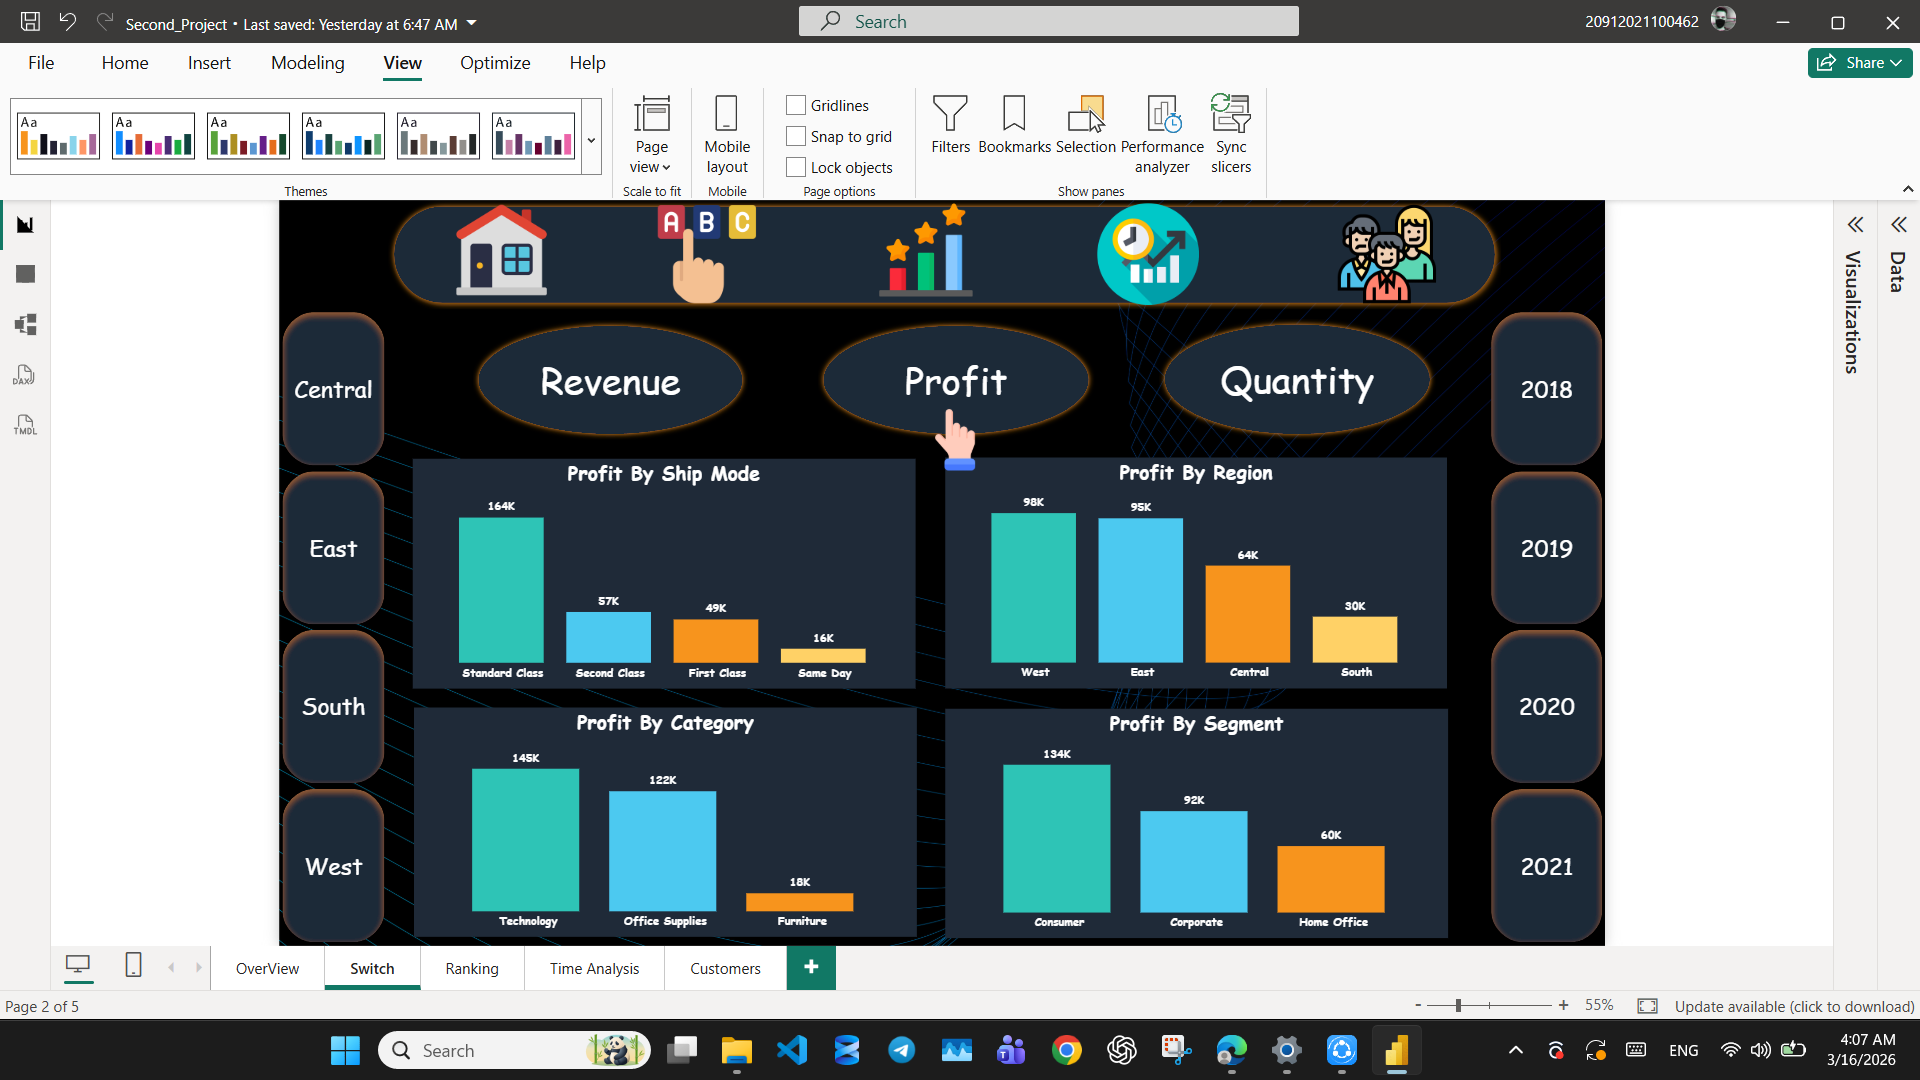

The dashboard page shown, as its layout file describes it:
{"tool":"powerbi","page":{"name":"Switch","canvas":[1920,1080],"ordinal":1},"visuals":[{"type":"shape","box":[158,0,1762,158],"z":0},{"type":"actionButton","title":"Button_qty","box":[1416,174,402,174],"z":2000},{"type":"actionButton","title":"Button_profit","box":[840,176,400,172],"z":3000},{"type":"actionButton","title":"Button_rev","box":[280.7,173.4,398.7,173.4],"z":4000},{"type":"clusteredColumnChart","title":"Qty By Ship Mode","fields":{"Category":["Dim_Order.Ship Mode"],"Y":["Dax.Total_Quantity"]},"box":[194,374,822,332],"z":9000},{"type":"clusteredColumnChart","title":"Qty By Region","fields":{"Category":["Dim_Customer.Region"],"Y":["Dax.Total_Quantity"]},"box":[1038,374,852,332],"z":11000},{"type":"clusteredColumnChart","title":"Qty By Category","fields":{"Category":["Dim_Product.Category"],"Y":["Dax.Total_Quantity"]},"box":[196,734,820,332],"z":13000},{"type":"clusteredColumnChart","title":"Qty By Segment","fields":{"Category":["Dim_Order.Segment"],"Y":["Dax.Total_Quantity"]},"box":[1038,748,852,332],"z":15000},{"type":"image","title":"Image_qty","box":[1564,246,120,204],"z":17000},{"type":"image","box":[230.7,0,184.2,144.8],"z":19000},{"type":"image","box":[606,2,158,158],"z":20000},{"type":"image","box":[1704,0,156,158],"z":21000},{"type":"image","box":[960,2,158,144],"z":22000},{"type":"image","box":[1310,2,158,158],"z":23000},{"type":"advancedSlicerVisual","fields":{"Values":["Dim_Customer.Region"]},"box":[0,160,158.3,406.7],"z":24000},{"type":"advancedSlicerVisual","fields":{"Values":["Calendar_Table.Year"]},"box":[0,585.7,158.6,494.3],"z":25000}]}

Visuals, with their boxes on the page's 1920x1080 design canvas (x1, y1, x2, y2). These are canvas units, not pixel positions in the 1920x1080 screenshot, which may show the page scaled, cropped or inside an application window:
shape: crop(158, 0, 1920, 158)
"Button_qty" actionButton: crop(1416, 174, 1818, 348)
"Button_profit" actionButton: crop(840, 176, 1240, 348)
"Button_rev" actionButton: crop(281, 173, 679, 347)
"Qty By Ship Mode" clusteredColumnChart: crop(194, 374, 1016, 706)
"Qty By Region" clusteredColumnChart: crop(1038, 374, 1890, 706)
"Qty By Category" clusteredColumnChart: crop(196, 734, 1016, 1066)
"Qty By Segment" clusteredColumnChart: crop(1038, 748, 1890, 1080)
"Image_qty" image: crop(1564, 246, 1684, 450)
image: crop(231, 0, 415, 145)
image: crop(606, 2, 764, 160)
image: crop(1704, 0, 1860, 158)
image: crop(960, 2, 1118, 146)
image: crop(1310, 2, 1468, 160)
advancedSlicerVisual - Dim_Customer.Region: crop(0, 160, 158, 567)
advancedSlicerVisual - Calendar_Table.Year: crop(0, 586, 159, 1080)
